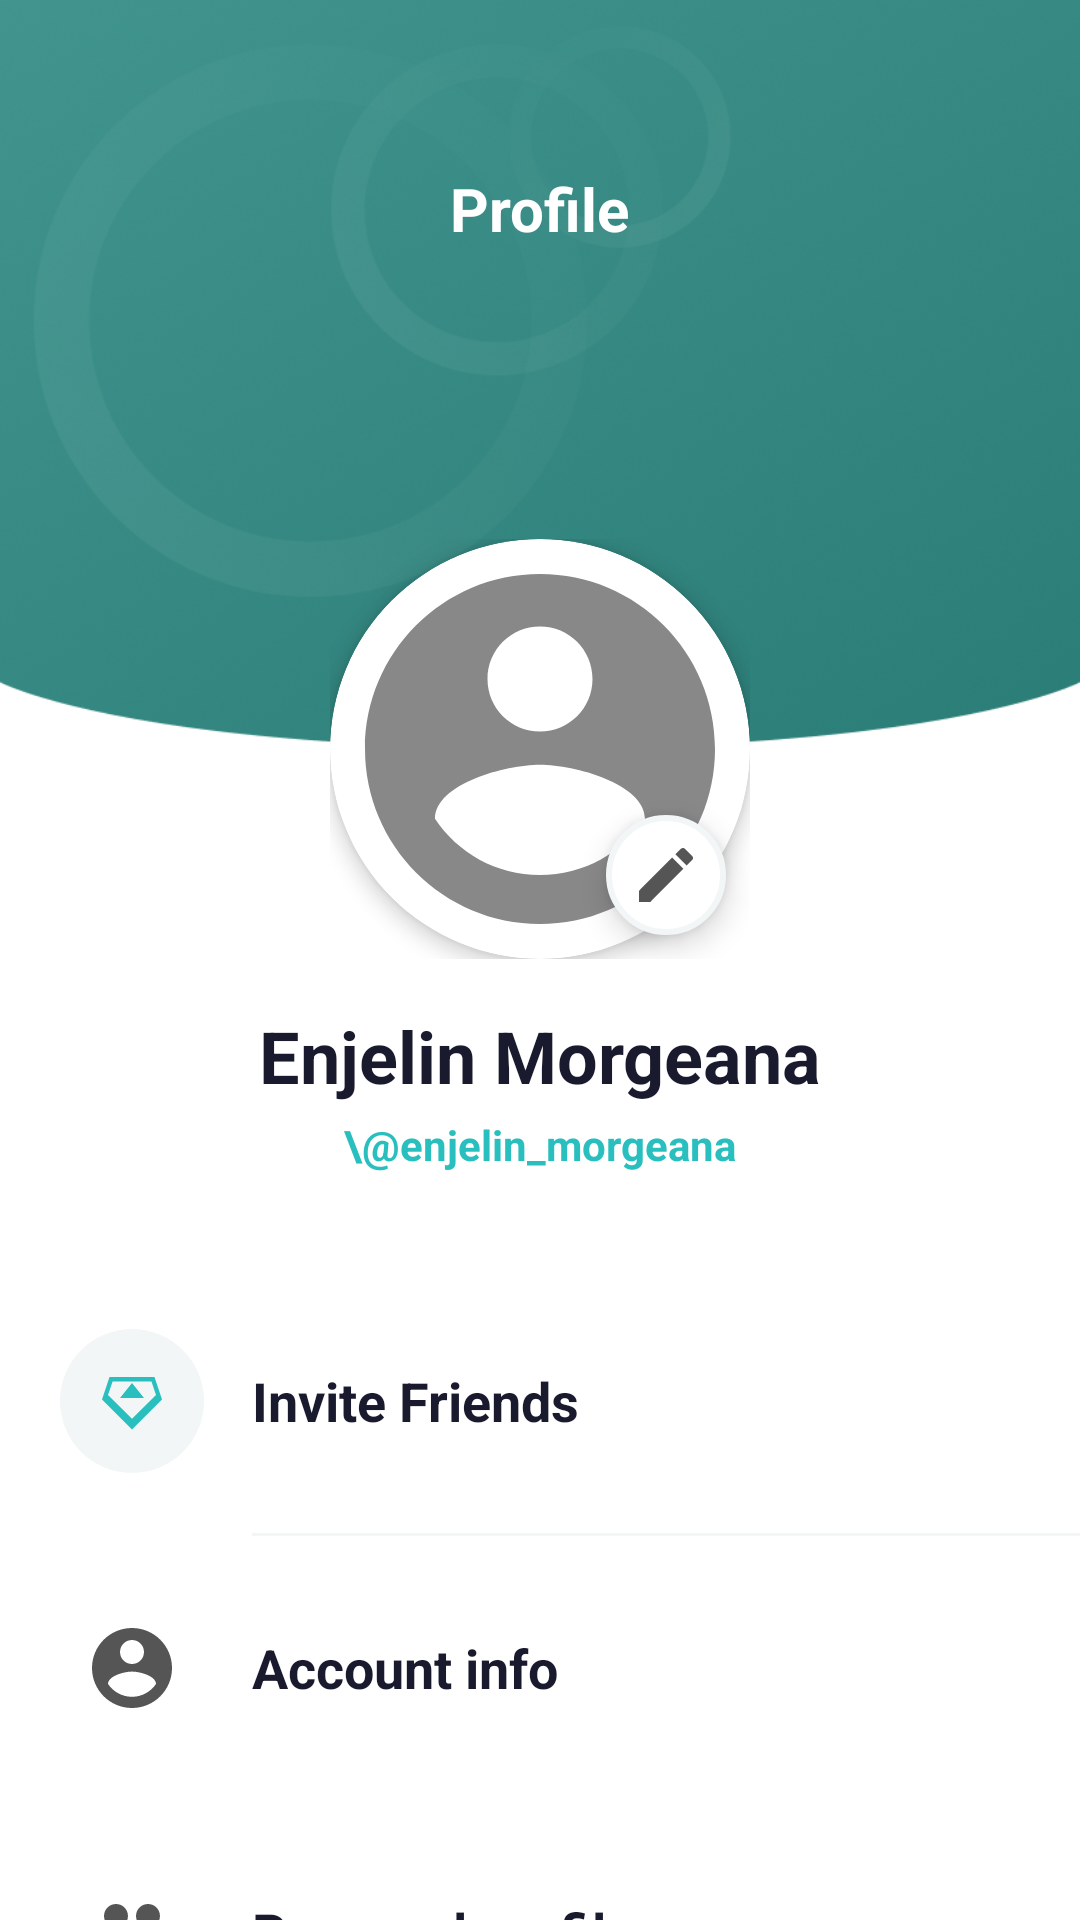

Named icons in this screenshot (1080px x 1920px) and their centers, (x=x, y=y):
edit pencil: (x=666, y=875)
